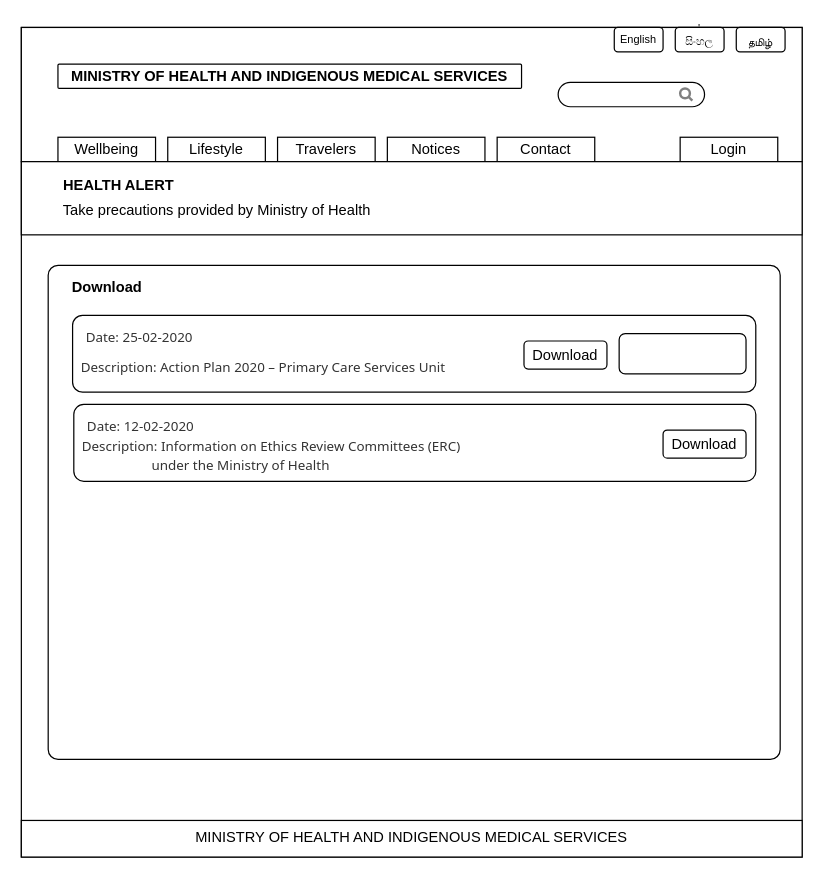
Some shapes in this 824 by 885 pixel diagram are drawn without their labels. Each missing label, with the centre of its shape:
"Download Cover Letter" belongs at point 682,353.
"Search" belongs at point 631,94.
